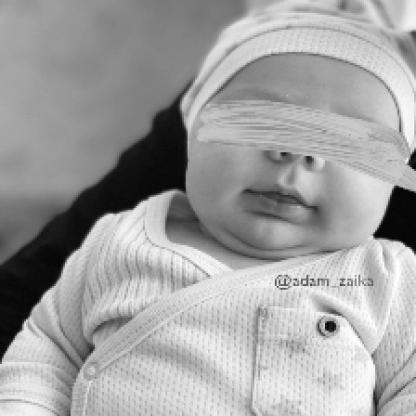child: (1, 5, 415, 416)
